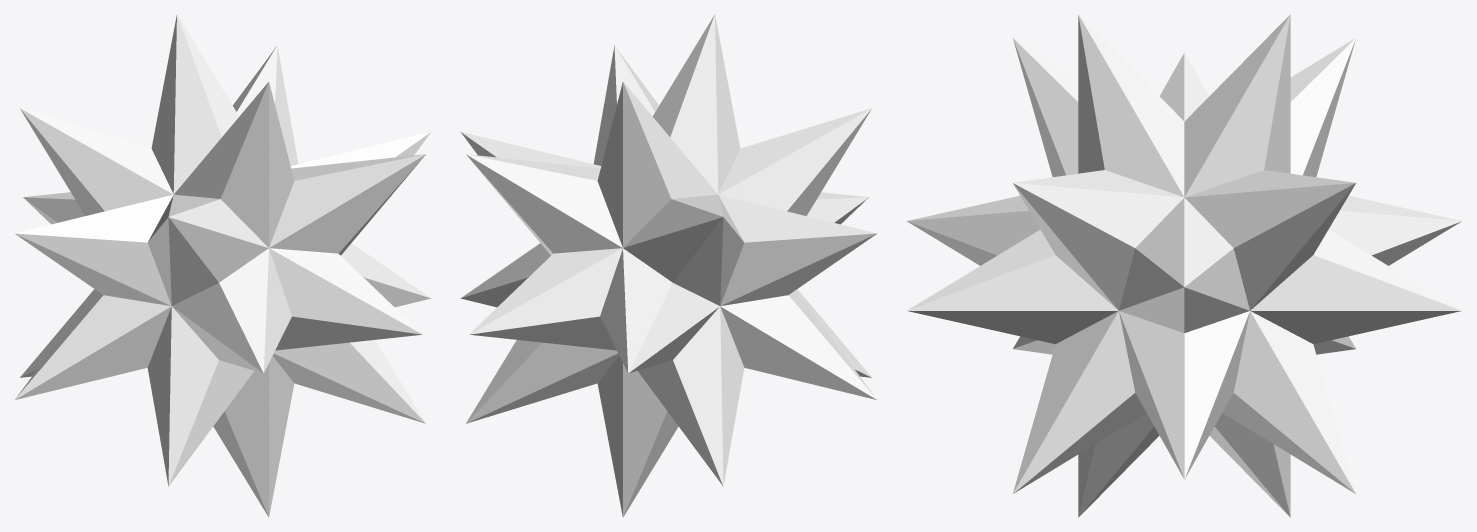
File: great-stellapentakis-dodecahedron.gltf
The picture shows the model from 3 angles, left to right: view 1: azimuth 30°, elevation 25°; view 2: azimuth 150°, elevation 25°; view 3: azimuth 270°, elevation 25°; orthographic projection. The views are drawn at different scales.
Visible parts, largest first — view 1: Great Stellapentakisdodecahedron (Dual of 5/2.6.6), WD95, p7; view 2: Great Stellapentakisdodecahedron (Dual of 5/2.6.6), WD95, p7; view 3: Great Stellapentakisdodecahedron (Dual of 5/2.6.6), WD95, p7.
Boxes of the visible parts, bbox=[...] form: Great Stellapentakisdodecahedron (Dual of 5/2.6.6), WD95, p7: bbox=[14, 14, 431, 517]; Great Stellapentakisdodecahedron (Dual of 5/2.6.6), WD95, p7: bbox=[460, 14, 877, 517]; Great Stellapentakisdodecahedron (Dual of 5/2.6.6), WD95, p7: bbox=[907, 14, 1461, 517].
Bounding box in the file's own units: 63.86 × 63.86 × 63.86.
Materials: 1 (1 with a texture image).
